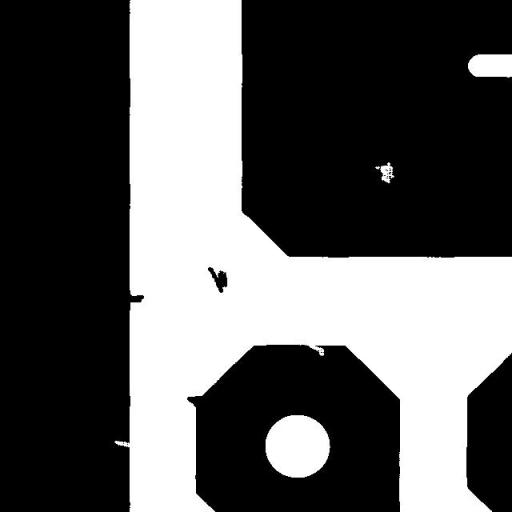copper: (200, 259, 234, 300)
mousebite: (301, 336, 331, 363), (106, 433, 138, 454)
pin-hole: (367, 154, 402, 190)
spur: (179, 388, 212, 417), (116, 284, 151, 310)
